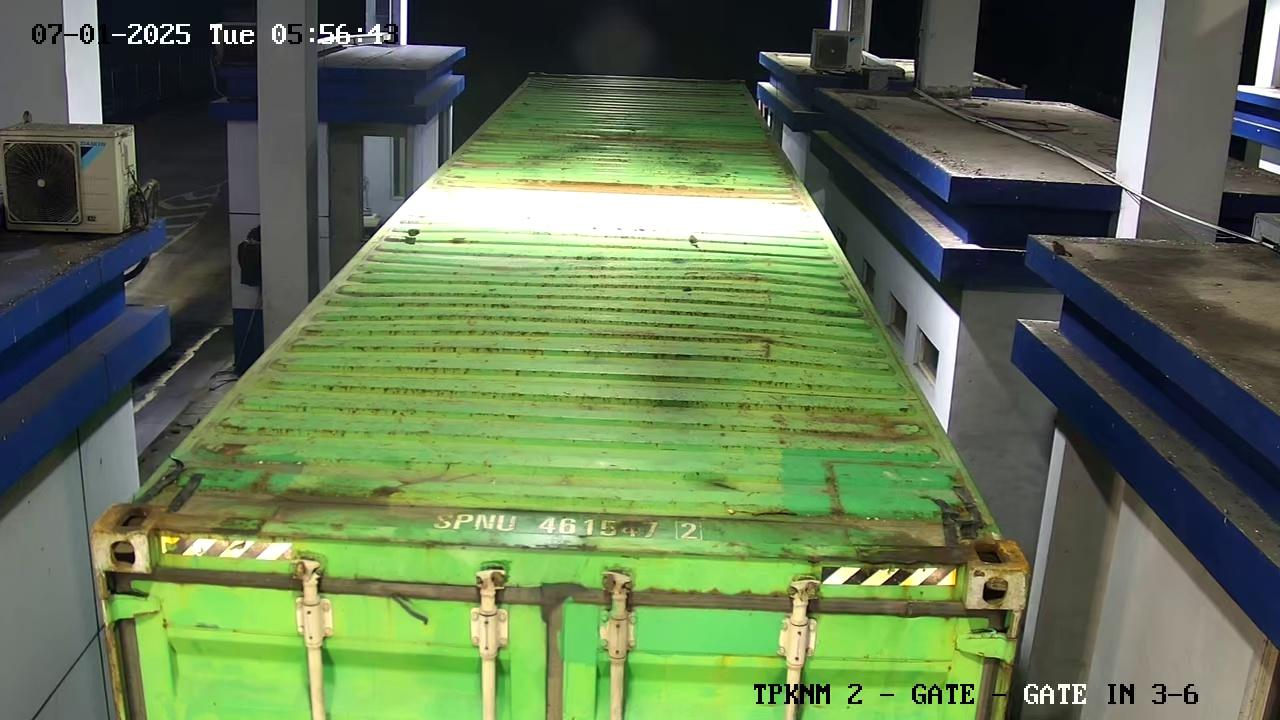Container_ID: (415, 505, 725, 558)
